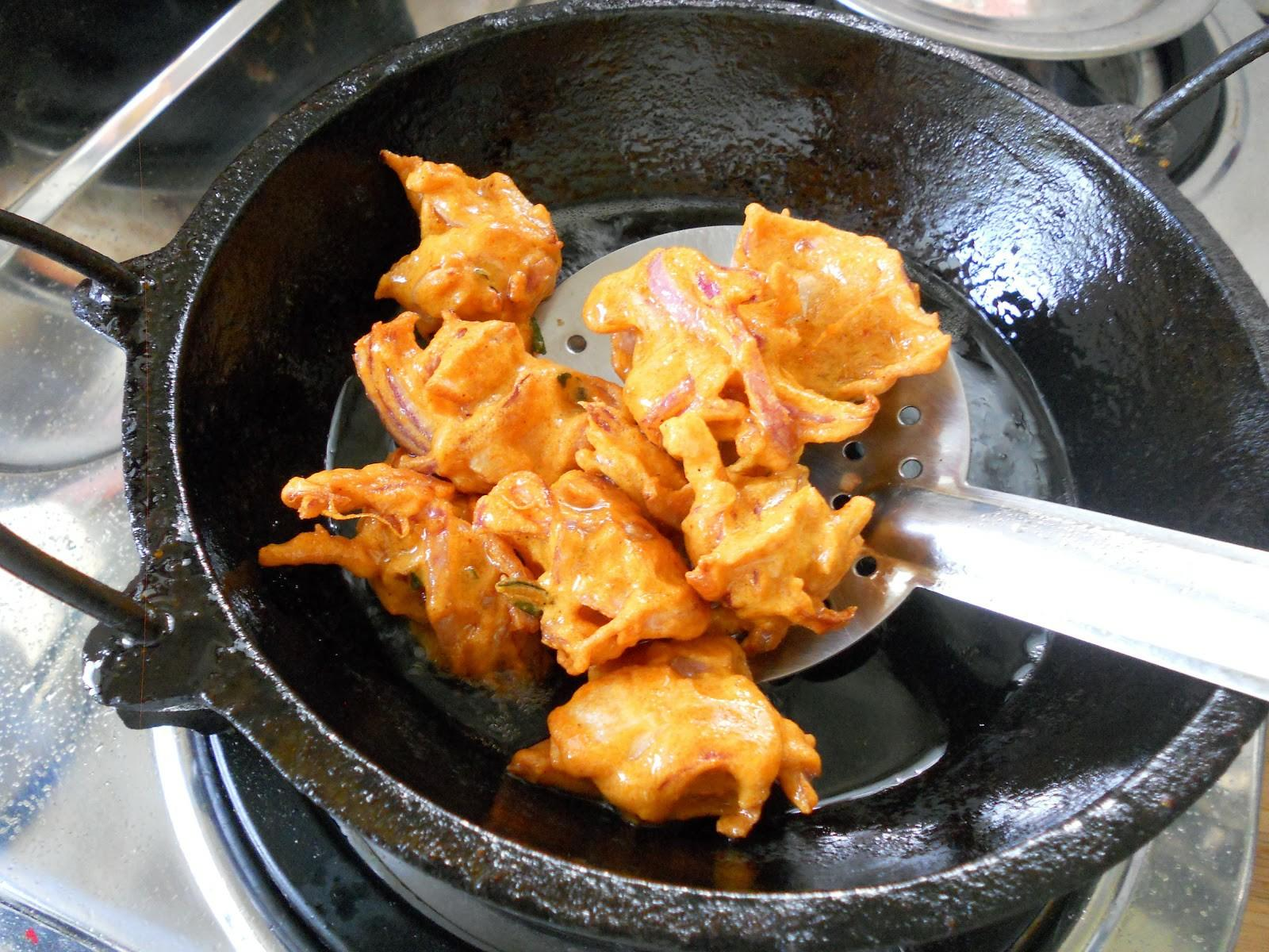OnionPakoda: (263, 150, 950, 834)
